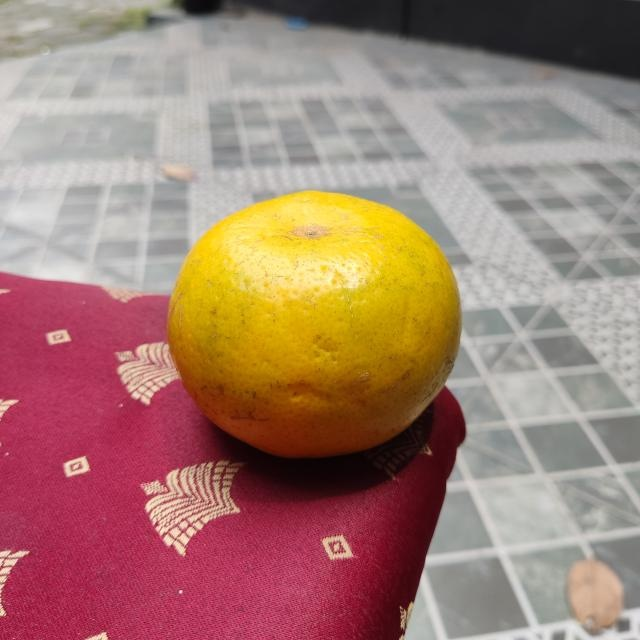agrume: (164, 191, 464, 462)
